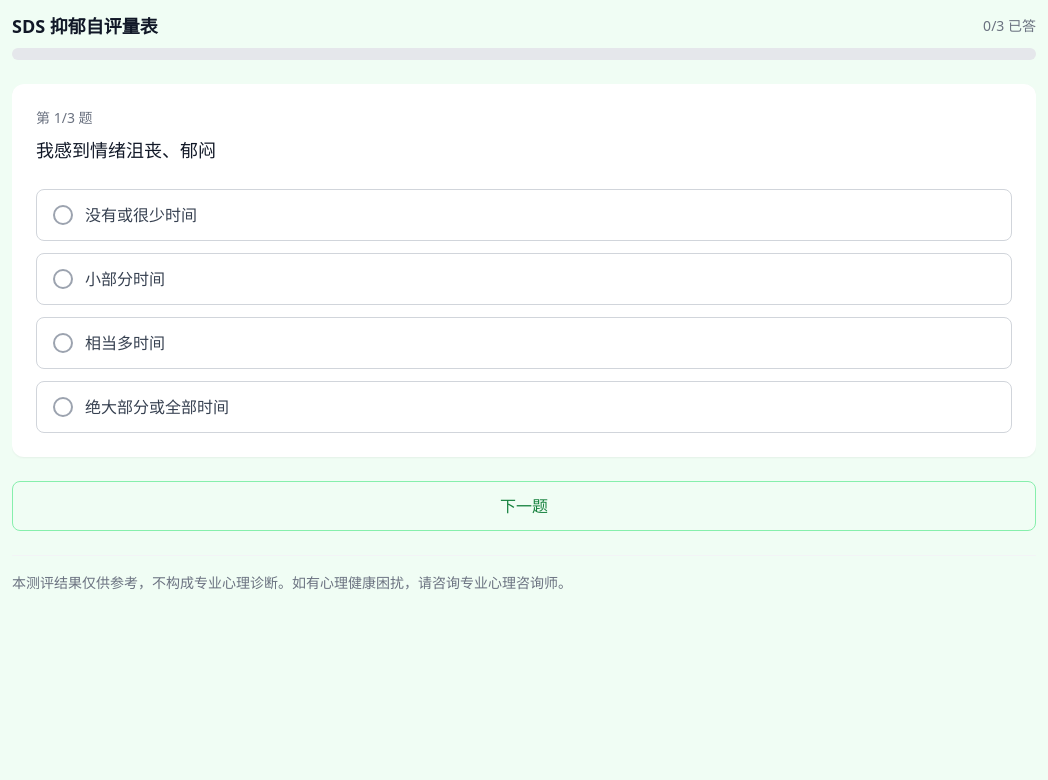
Test case: AssessmentPage › shows submit button on last question
The width and height of the screenshot is (1048, 780).
Check: the text "我感到情绪沮丧、郁闷" is shown, box [36, 138, 216, 162]
// Navigate to last question by answering
Click the button "没有或很少时间" at (141, 215), box [36, 189, 1012, 241]
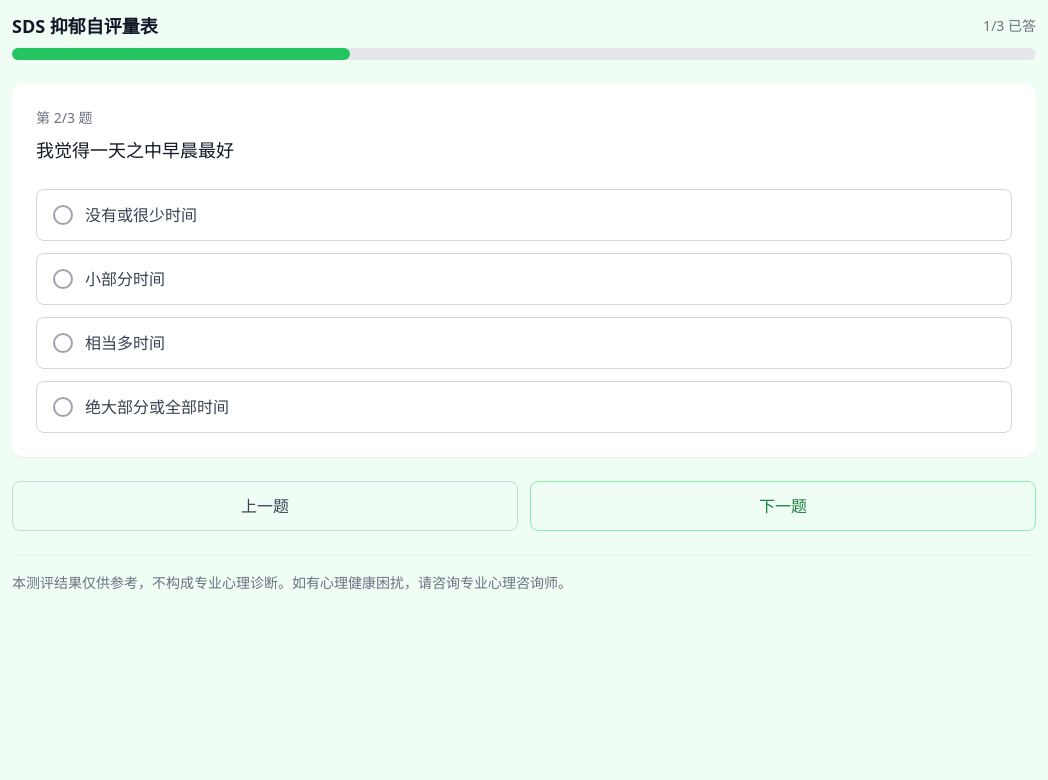
Check: the text "我觉得一天之中早晨最好" is shown, box [36, 138, 234, 162]
Click the button "小部分时间" at (125, 279), box [36, 253, 1012, 305]
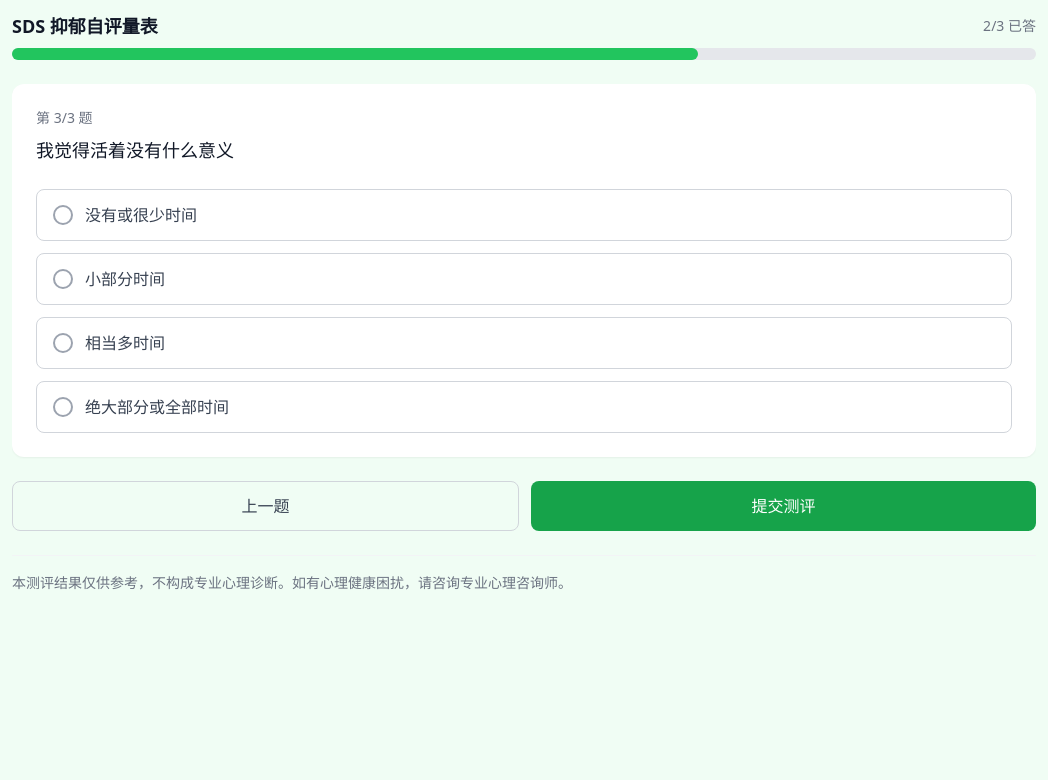
Check: the text "我觉得活着没有什么意义" is shown, box [36, 138, 234, 162]
Check: the button "提交测评" is shown, box [531, 481, 1036, 531]
